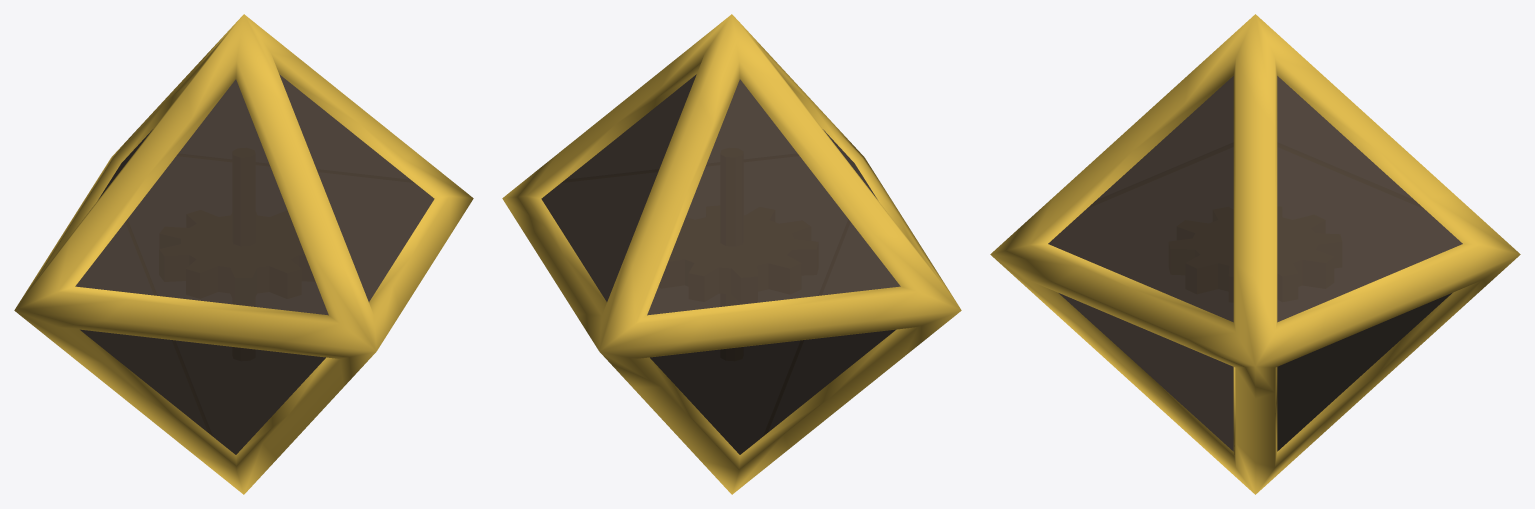
The model's file is glass-d8.glb.
3 renders of one model, left to right at view 1: azimuth 30°, elevation 25°; view 2: azimuth 150°, elevation 25°; view 3: azimuth 270°, elevation 25°, orthographic.
Visible parts, largest first — view 1: glass-d8; view 2: glass-d8; view 3: glass-d8.
Part boxes in pixels (left/top/right/bottom): glass-d8: left=14, top=14, right=473, bottom=494; glass-d8: left=502, top=14, right=961, bottom=494; glass-d8: left=990, top=14, right=1520, bottom=494.
Size of the model in its own units: 0.052 by 0.052 by 0.052.
